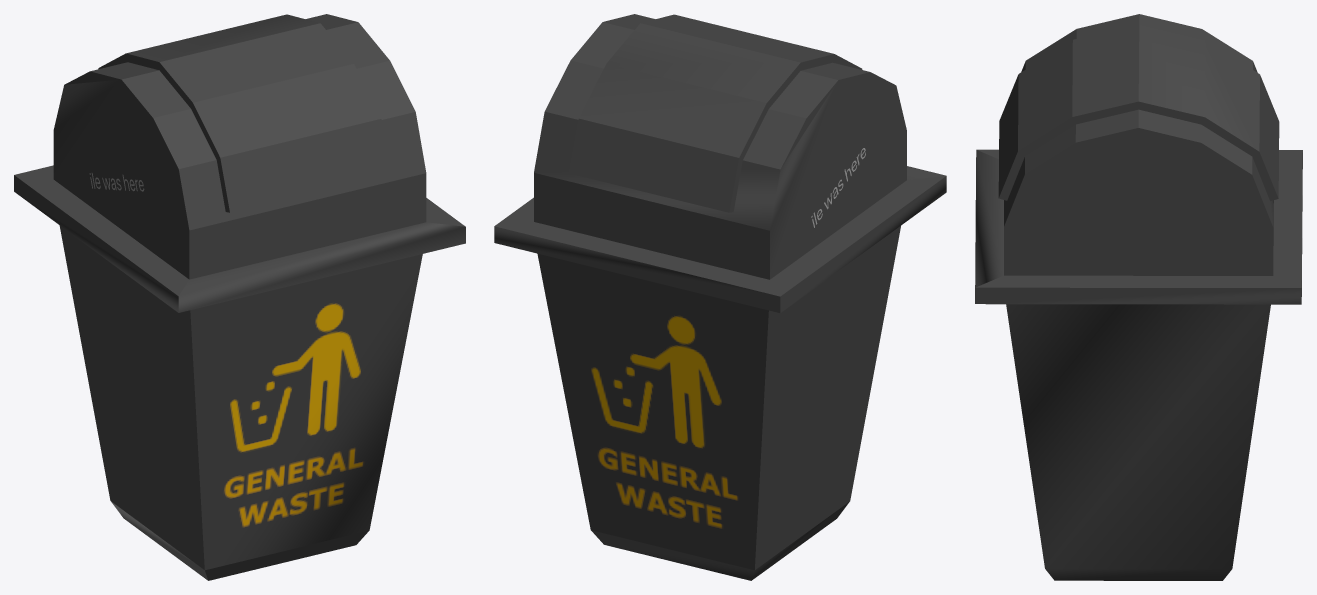
The model's file is Bin_General.glb.
The picture shows the model from 3 angles, left to right: view 1: azimuth 30°, elevation 25°; view 2: azimuth 150°, elevation 25°; view 3: azimuth 270°, elevation 25°; orthographic projection.
Parts seen in each view (by area): view 1: Bin_General; view 2: Bin_General; view 3: Bin_General.
Part boxes in pixels (x1,y1,x2,y2): Bin_General: (14,14,465,580); Bin_General: (494,14,946,580); Bin_General: (975,14,1302,580).
Size of what is drawn, in the model's own units: 0.6699 by 1.1 by 0.67.
1 material, 1 textured.
